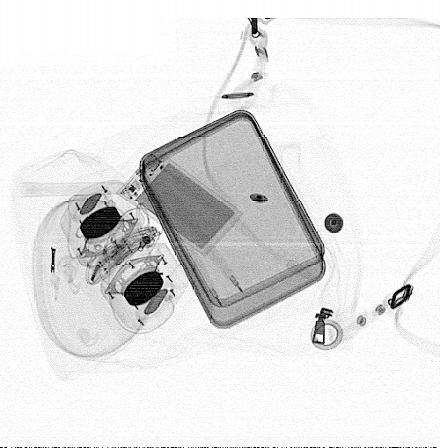Powerbank: (115, 147, 244, 257)
